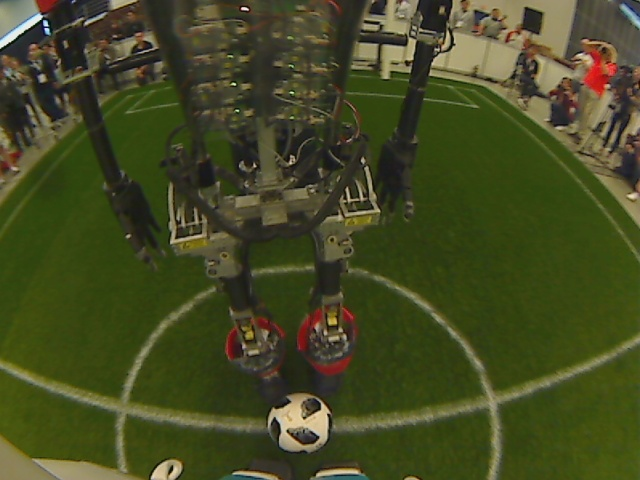ball: (266, 392, 335, 457)
